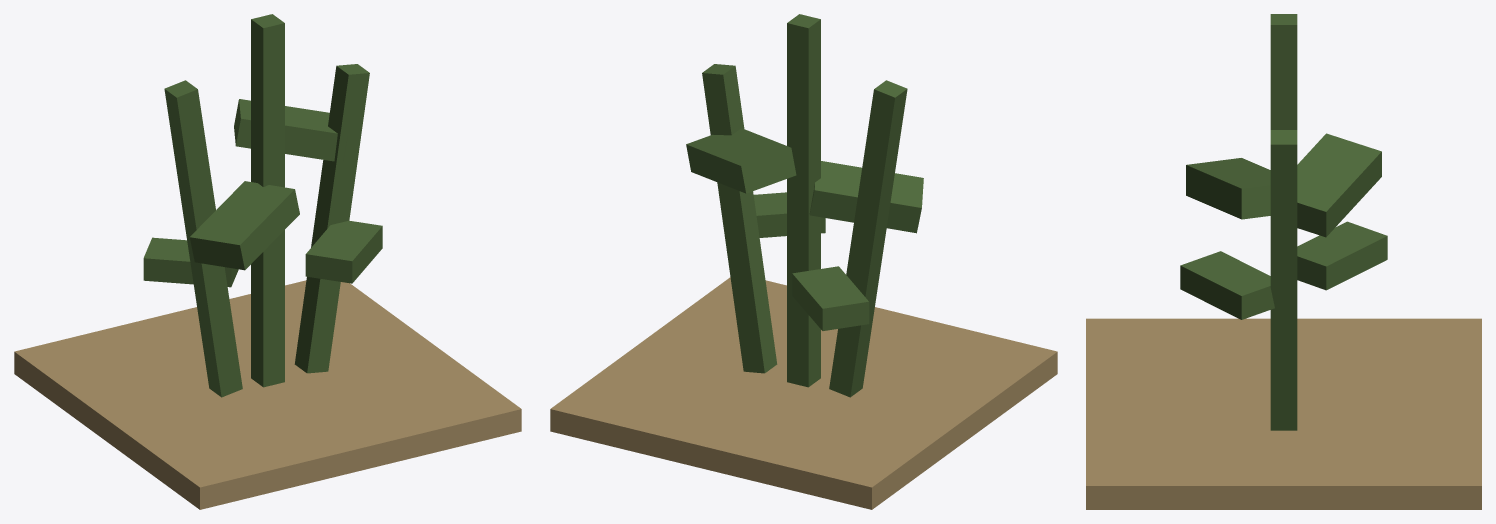
3 views of the same model, side by side, from view 1: azimuth 30°, elevation 25°; view 2: azimuth 150°, elevation 25°; view 3: azimuth 270°, elevation 25° (orthographic). The views are drawn at different scales.
Visible parts, largest first — view 1: herb-a@1.0.0; view 2: herb-a@1.0.0; view 3: herb-a@1.0.0.
Part boxes in pixels (left/top/right/bottom): herb-a@1.0.0: left=14, top=14, right=521, bottom=509; herb-a@1.0.0: left=550, top=14, right=1057, bottom=509; herb-a@1.0.0: left=1086, top=14, right=1481, bottom=509.
Size of the model in its own units: 0.75 by 0.85 by 0.75.
